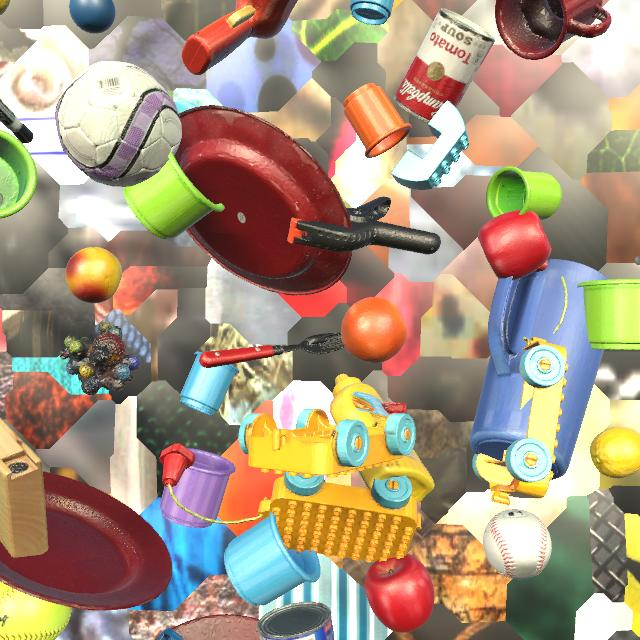ycb_005_tomato_soup_can: (393, 8, 495, 123)
ycb_006_mustard_bottle: (329, 374, 435, 504)
ycb_007_tuna_fish_can: (257, 602, 335, 640)
ycb_013_apple: (365, 553, 434, 633), (478, 210, 551, 281)
ycb_014_lemon: (590, 427, 640, 478), (0, 0, 10, 15)
ycb_015_peach: (65, 247, 122, 303)
ycb_017_orange: (341, 297, 408, 363)
